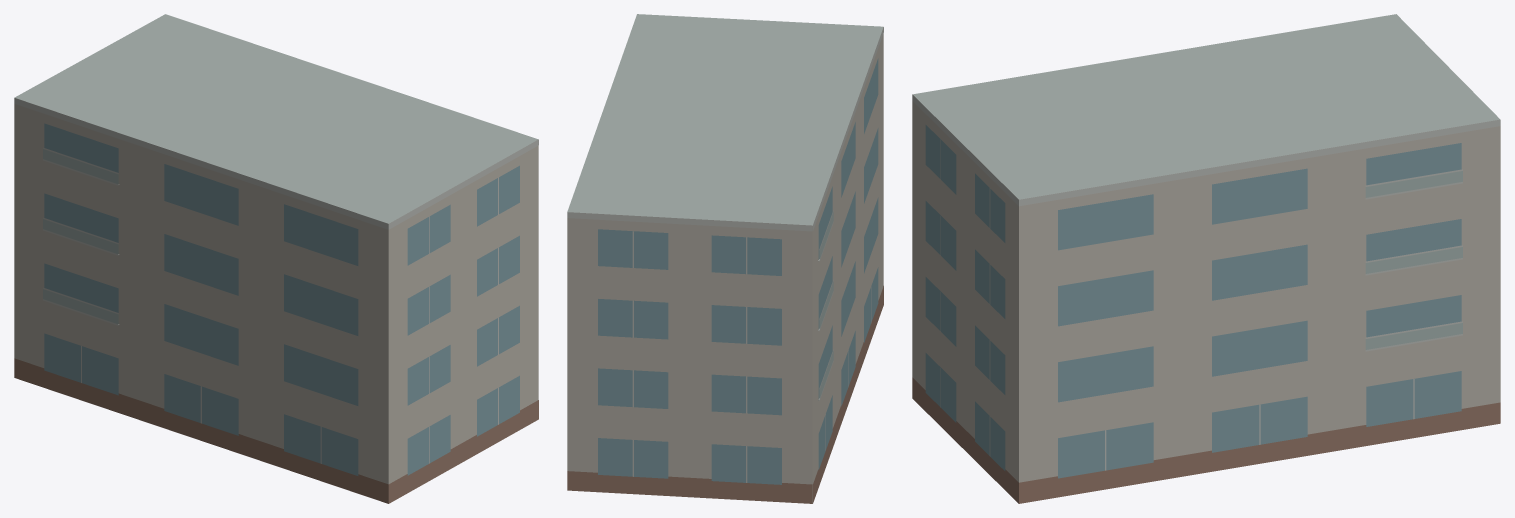
File: survey-upis-33016869.glb
3 renders of one model, left to right at view 1: azimuth 30°, elevation 25°; view 2: azimuth 150°, elevation 25°; view 3: azimuth 270°, elevation 25°, orthographic. The views are drawn at different scales.
Visible parts, largest first — view 1: survey-upis-33016869.tmp; view 2: survey-upis-33016869.tmp; view 3: survey-upis-33016869.tmp.
Boxes of the visible parts, box(x1,y1,x2,y2) form: survey-upis-33016869.tmp: box(14, 14, 538, 503); survey-upis-33016869.tmp: box(567, 14, 883, 503); survey-upis-33016869.tmp: box(912, 14, 1500, 503).
Size of the model in its own units: 14.95 by 11.4 by 19.99.
